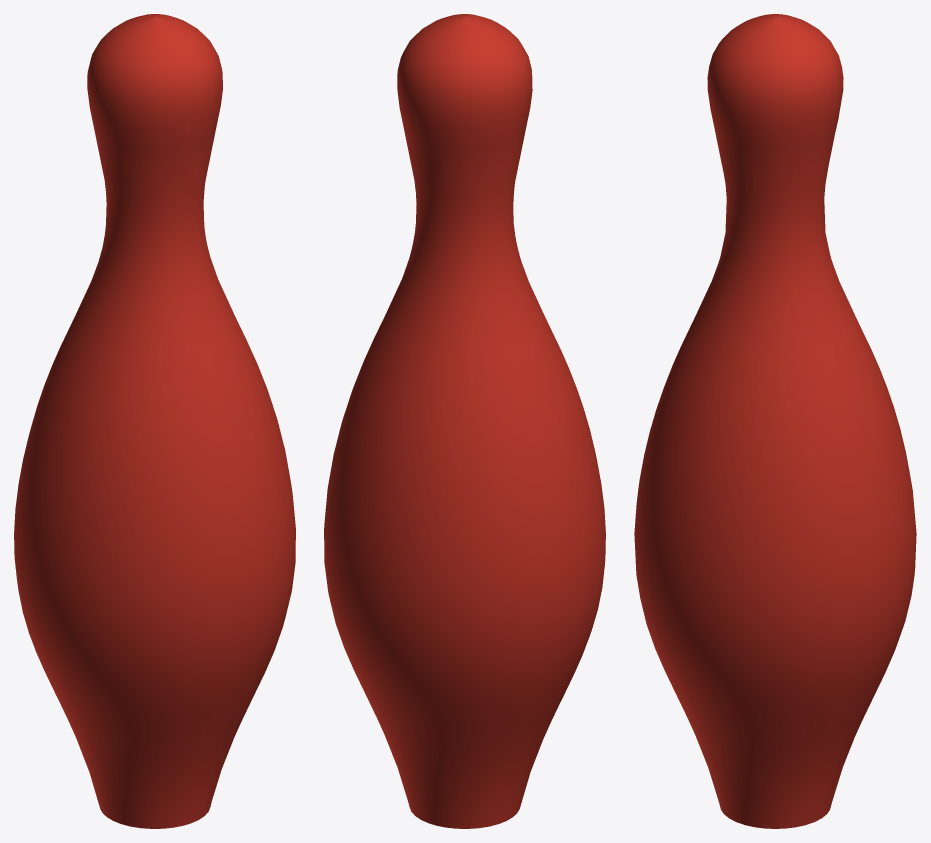
The model's file is Pin.fbx.
3 renders of one model, left to right at view 1: azimuth 30°, elevation 25°; view 2: azimuth 150°, elevation 25°; view 3: azimuth 270°, elevation 25°, orthographic.
Parts seen in each view (by area): view 1: Body1; view 2: Body1; view 3: Body1.
Boxes of the visible parts, bbox=[...] form: Body1: bbox=[14, 14, 295, 828]; Body1: bbox=[324, 14, 605, 828]; Body1: bbox=[634, 14, 916, 828].
Size of the model in its own units: 0.0644 by 0.1986 by 0.0644.
